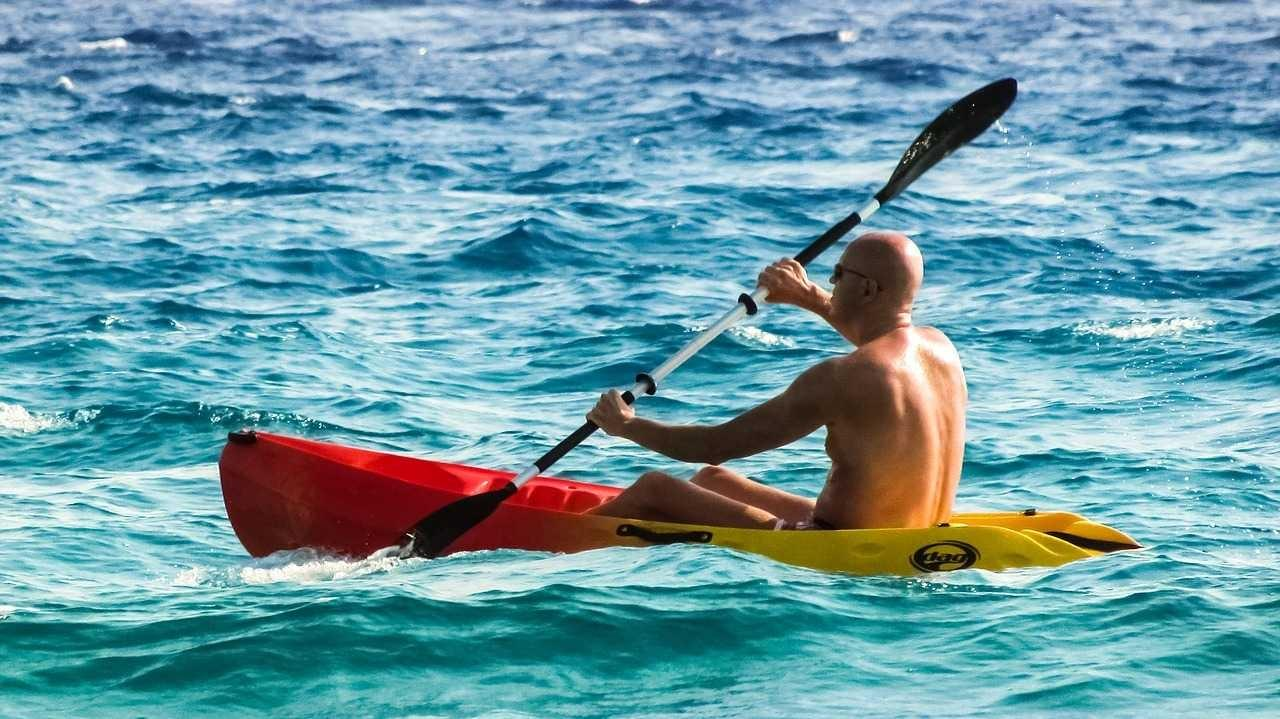kayak: (236, 439, 1122, 570)
